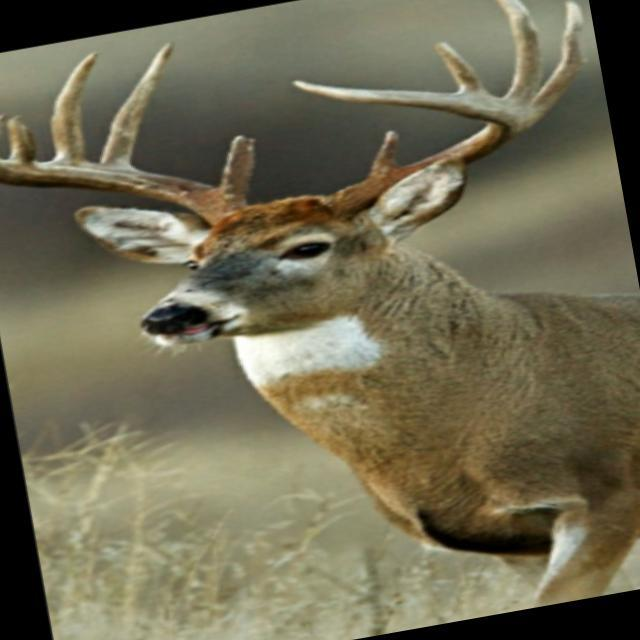L-F: (289, 78, 529, 220)
L-G1: (367, 129, 403, 178)
L-G2: (527, 0, 584, 125)
L-G3: (493, 0, 543, 104)
L-G4: (429, 40, 489, 93)
R-G1: (217, 134, 256, 202)
R-G2: (99, 40, 175, 169)
R-G3: (49, 51, 99, 164)
R-G4: (6, 114, 37, 164)
